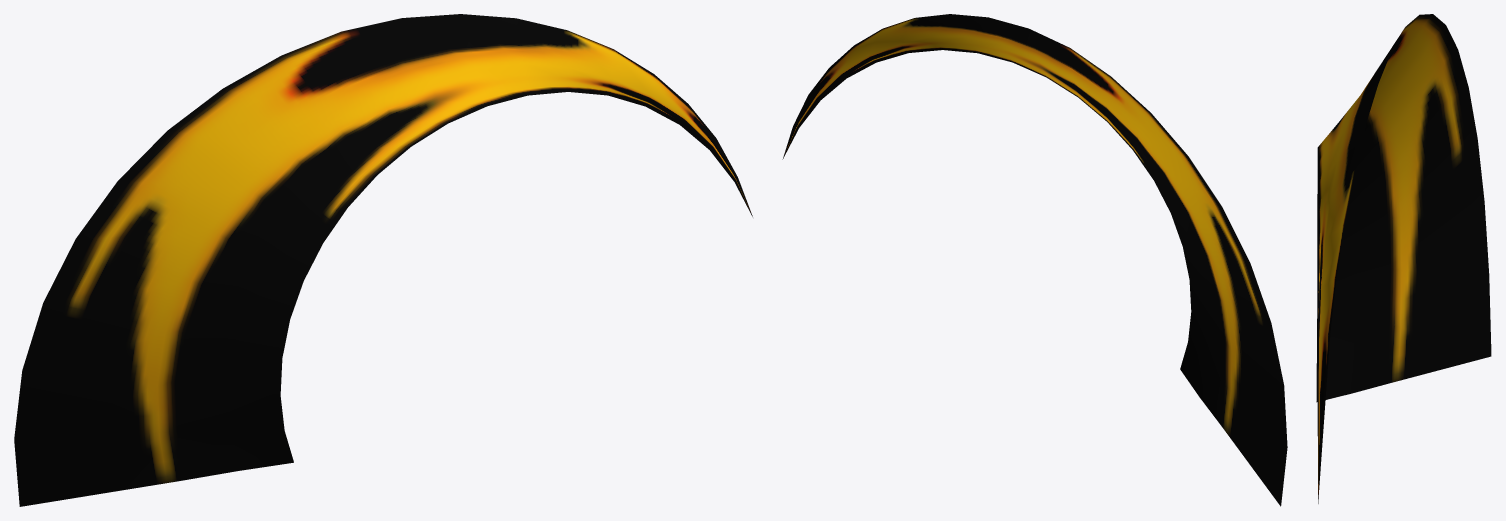
Rendered from Effect_yuanju01.FBX.
3 views of the same model, side by side, from view 1: azimuth 30°, elevation 25°; view 2: azimuth 150°, elevation 25°; view 3: azimuth 270°, elevation 25° (orthographic). The views are drawn at different scales.
Parts seen in each view (by area): view 1: Effect_yuanju01; view 2: Effect_yuanju01; view 3: Effect_yuanju01.
Boxes of the visible parts, left/top/right/bottom form: Effect_yuanju01: left=14, top=14, right=752, bottom=506; Effect_yuanju01: left=782, top=14, right=1287, bottom=506; Effect_yuanju01: left=1316, top=14, right=1491, bottom=503.
Size of the model in its own units: 1.6 by 1.01 by 0.3291.
1 material, 1 textured.
